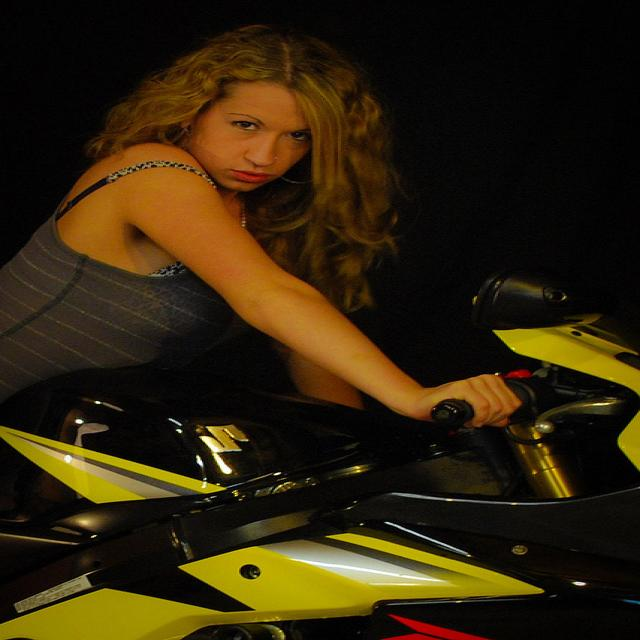motor: (6, 257, 640, 633)
